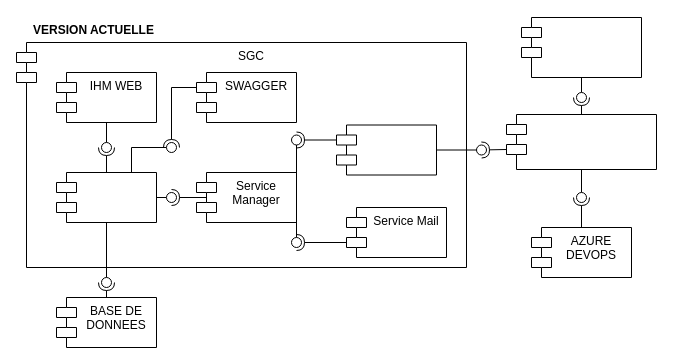
Image size: 673x364. Some labels were removed from this diagram. Here are the shapes that lost their labels. From the top down, the box of each, then its label:
(520, 16, 642, 78): BASE DE DONNEES INFOSANTE
(336, 124, 436, 175): Service SFTP
(506, 114, 656, 170): SERVICE INTEROP
(56, 172, 156, 222): SERVEUR JAVA
